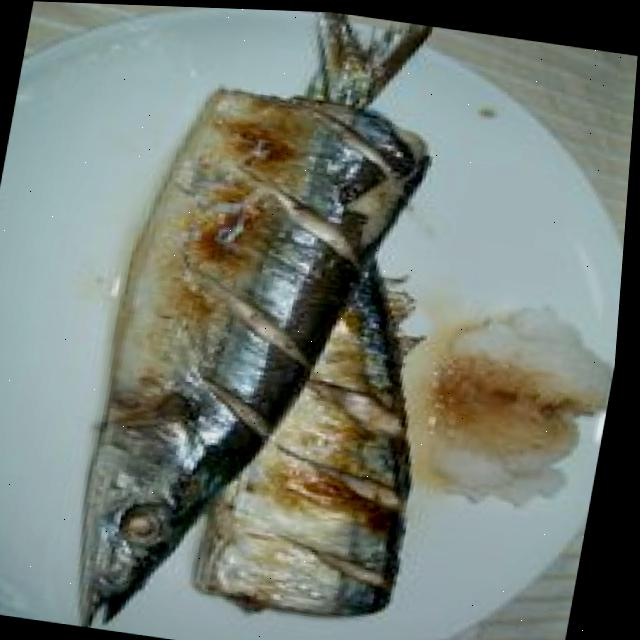熟制海鲜: (36, 2, 504, 640)
